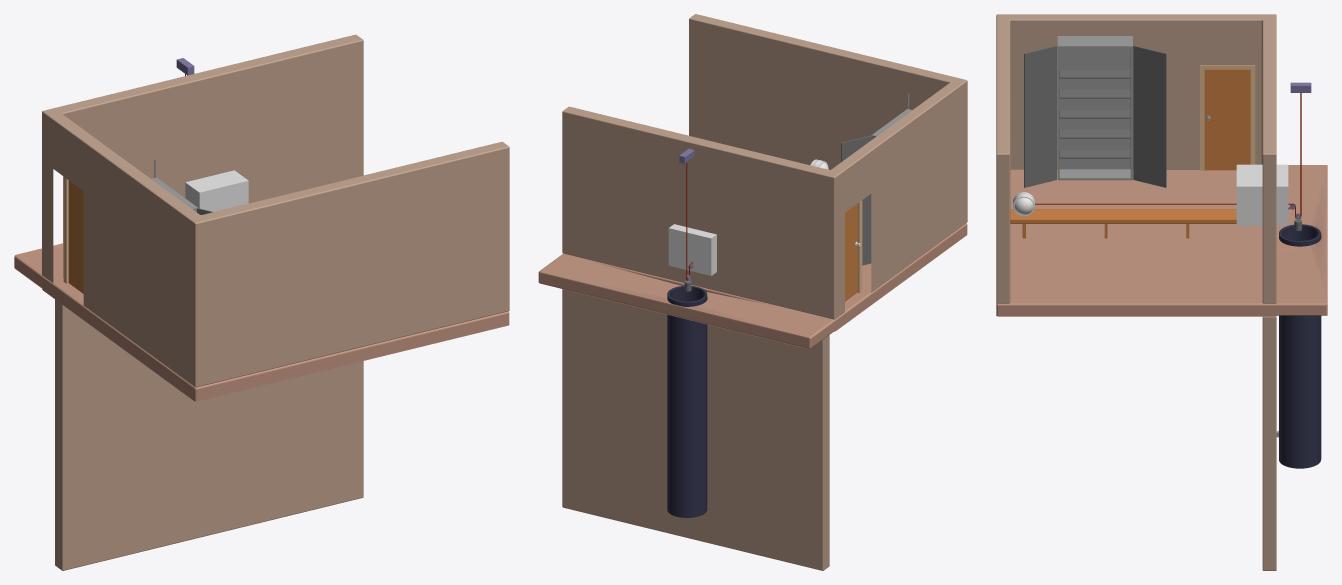
Rendered from Level02-transformed.glb.
3 renders of one model, left to right at view 1: azimuth 30°, elevation 25°; view 2: azimuth 150°, elevation 25°; view 3: azimuth 270°, elevation 25°, orthographic. The views are drawn at different scales.
Visible parts, largest first — view 1: Walls, Ground, Ground.001, Cube, Door, DoorFrame; view 2: Walls, Ground.001, Well, Ground, Cube, Door, CabinetDoor.001, DoorFrame; view 3: Ground, Walls, Cabinet, Ground.001, Well, Door, CabinetDoor.001, CabinetDoor, Bench, Plane, Cube, DoorFrame.
Boxes of the visible parts, x1,y1,x2,y2 form: Walls: (42, 34, 509, 570); Ground: (42, 271, 509, 401); Ground.001: (14, 243, 509, 399); Cube: (185, 170, 248, 211); Door: (68, 180, 83, 293); DoorFrame: (63, 177, 68, 283); Walls: (562, 14, 967, 570); Ground.001: (538, 223, 967, 348); Well: (667, 285, 707, 517); Ground: (573, 225, 967, 331); Cube: (668, 224, 716, 275); Door: (845, 204, 857, 301); CabinetDoor.001: (841, 135, 872, 265); DoorFrame: (857, 200, 862, 292); Ground: (996, 169, 1276, 316); Walls: (996, 14, 1276, 570); Cabinet: (1057, 36, 1132, 180); Ground.001: (996, 165, 1327, 315); Well: (1279, 224, 1321, 468); Door: (1204, 69, 1250, 170); CabinetDoor.001: (1133, 45, 1166, 187); CabinetDoor: (1024, 45, 1056, 187); Bench: (1010, 209, 1236, 223); Plane: (1059, 70, 1130, 158); Cube: (1236, 164, 1288, 225); DoorFrame: (1200, 65, 1255, 170).
Size of the model in its own units: 6 by 8.34 by 6.
